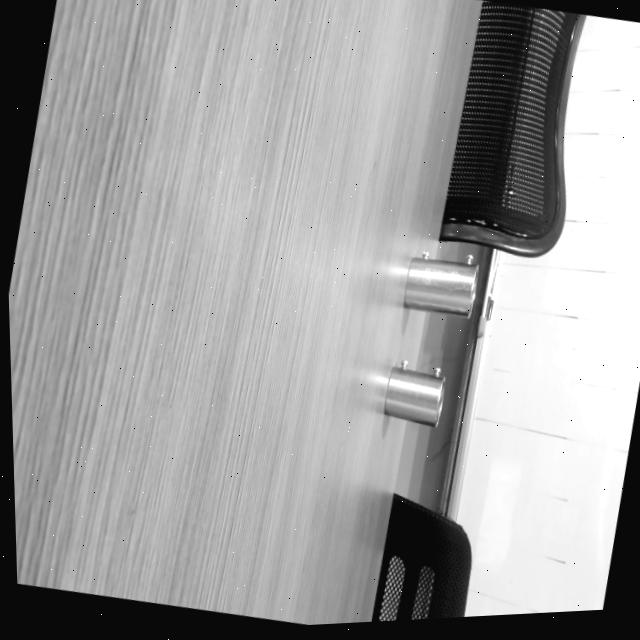Co_Lon: (402, 247, 480, 320)
Co_Nho: (380, 358, 450, 429)
